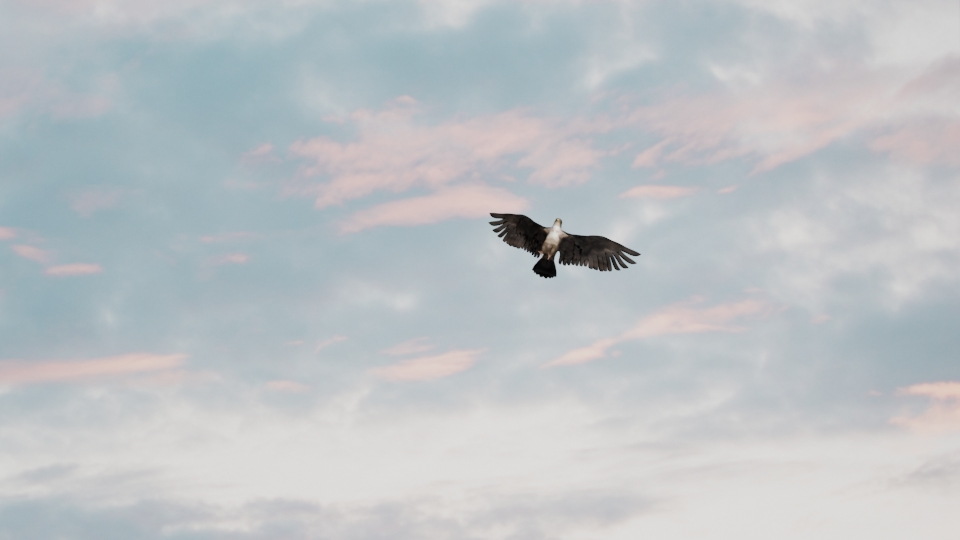bird: (486, 211, 645, 281)
